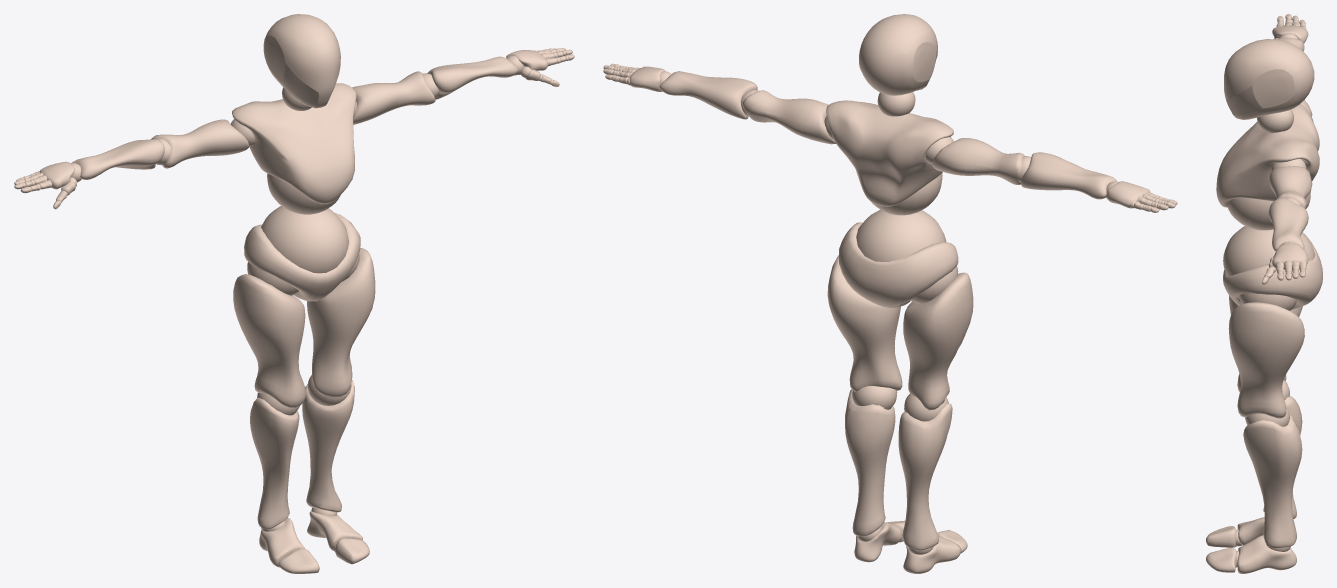
3 renders of one model, left to right at view 1: azimuth 30°, elevation 25°; view 2: azimuth 150°, elevation 25°; view 3: azimuth 270°, elevation 25°, orthographic. The views are drawn at different scales.
Visible parts, largest first — view 1: Beta_Surface, Beta_Joints; view 2: Beta_Surface, Beta_Joints; view 3: Beta_Surface, Beta_Joints.
Part boxes in pixels (bbox=[...]): Beta_Surface: bbox=[14, 14, 574, 573]; Beta_Joints: bbox=[21, 49, 568, 553]; Beta_Surface: bbox=[603, 14, 1177, 573]; Beta_Joints: bbox=[609, 65, 1170, 554]; Beta_Surface: bbox=[1206, 14, 1322, 573]; Beta_Joints: bbox=[1223, 16, 1315, 567].
Bounding box in the file's own units: 0.0204 × 0.0185 × 0.00382.
